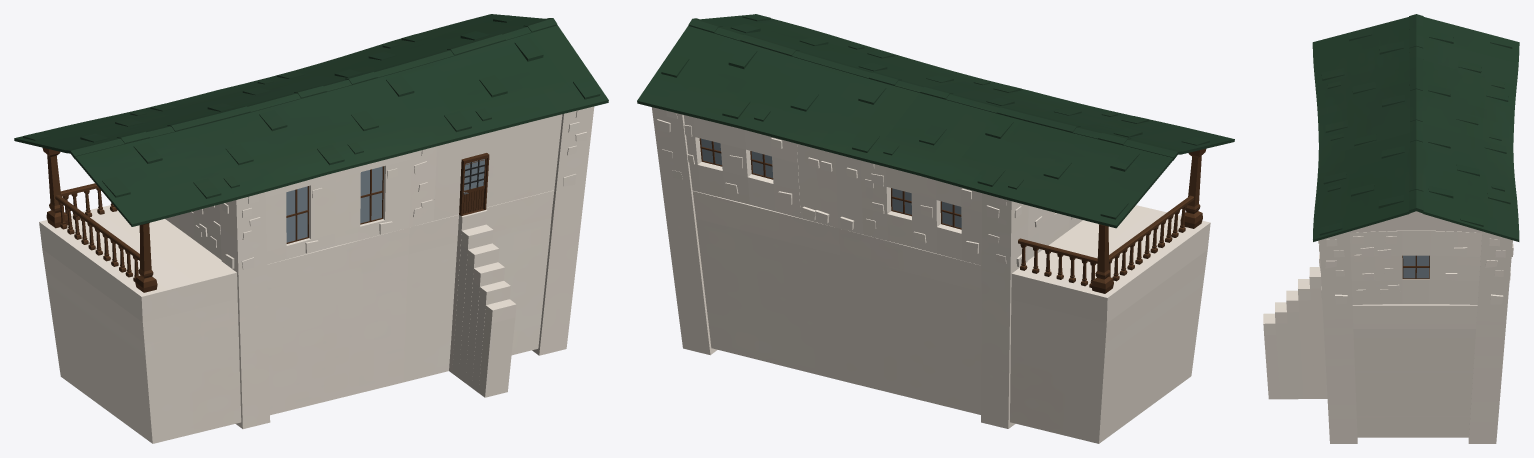
The model's file is 8 skewed - col.glb.
3 renders of one model, left to right at view 1: azimuth 30°, elevation 25°; view 2: azimuth 150°, elevation 25°; view 3: azimuth 270°, elevation 25°, orthographic. The views are drawn at different scales.
Visible parts, largest first — view 1: 8 skewed - col.001; view 2: 8 skewed - col.001; view 3: 8 skewed - col.001.
Boxes of the visible parts, <box> form: 8 skewed - col.001: <box>14,14,608,443</box>; 8 skewed - col.001: <box>637,14,1234,443</box>; 8 skewed - col.001: <box>1263,14,1519,443</box>.
Bounding box in the file's own units: 37.99 × 21.6 × 19.86.
4 materials, 1 textured.
